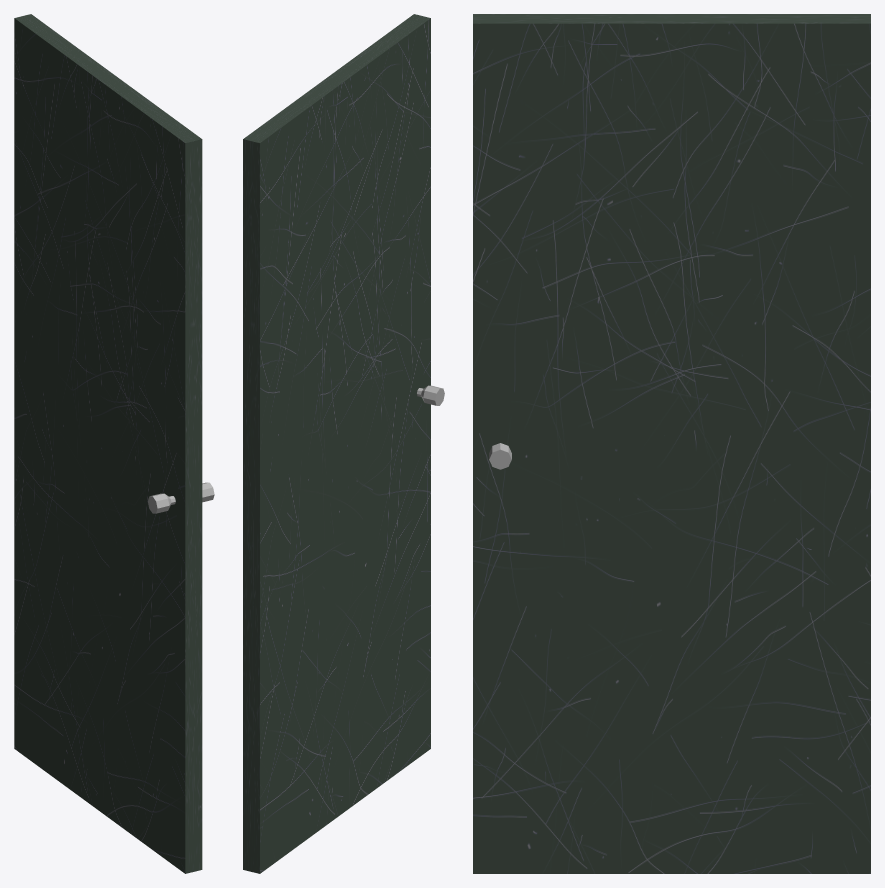
The model's file is interactible door.fbx.
The picture shows the model from 3 angles, left to right: view 1: azimuth 30°, elevation 25°; view 2: azimuth 150°, elevation 25°; view 3: azimuth 270°, elevation 25°; orthographic projection. The views are drawn at different scales.
Visible parts, largest first — view 1: interactible door; view 2: interactible door; view 3: interactible door.
Part boxes in pixels (x1,y1,x2,y2): interactible door: [14, 14, 214, 873]; interactible door: [243, 14, 444, 873]; interactible door: [473, 14, 870, 873].
Size of the model in its own units: 26.09 by 319 by 135.
